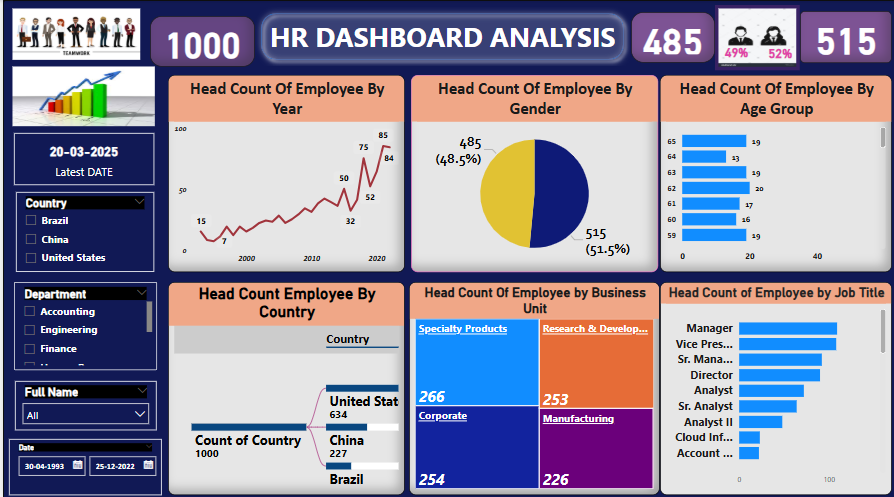

The page's visual inventory and layout, read from the dashboard file:
{"tool":"powerbi","page":{"name":"HR Data Analysis","canvas":[1286,720],"ordinal":0},"visuals":[{"type":"lineChart","title":"Head Count Of Employee By Year ","fields":{"Category":["Employee Data.Hire Date.Variation.Date Hierarchy.Year"],"Y":["CountNonNull(Employee Data.Employee ID)"]},"box":[237.6,108,341.3,283.7],"z":0},{"type":"pieChart","title":"Head Count Of Employee By Gender","fields":{"Category":["Employee Data.Gender"],"Y":["CountNonNull(Employee Data.Employee ID)"]},"box":[587.5,108,355.7,283.7],"z":1000},{"type":"clusteredBarChart","title":"Head Count Of Employee By Age Group","fields":{"Category":["Employee Data.Age"],"Y":["CountNonNull(Employee Data.Employee ID)"]},"box":[946.1,108,334.1,283.7],"z":2000},{"type":"card","fields":{"Values":["Employee Data.total employee count"]},"box":[211.7,23,151.2,73.4],"z":3000},{"type":"decompositionTreeVisual","title":"Head Count Employee By Country","fields":{"Analyze":["CountNonNull(Employee Data.Country)"],"ExplainBy":["Employee Data.Country"]},"box":[237.6,406.1,341.3,306.7],"z":4000},{"type":"treemap","title":"Head Count Of Employee by Business Unit","fields":{"Group":["Employee Data.Business Unit"],"Values":["CountNonNull(Employee Data.Employee ID)"]},"box":[584.6,406.1,361.4,306.7],"z":5000},{"type":"barChart","title":"Head Count of Employee by Job Title","fields":{"Category":["Employee Data.Job Title"],"Y":["CountNonNull(Employee Data.Employee ID)"]},"box":[946.1,406.1,334.1,306.7],"z":6000},{"type":"slicer","fields":{"Values":["Employee Data.Country"]},"box":[18.7,276.5,198.7,115.2],"z":7000},{"type":"slicer","fields":{"Values":["Employee Data.Department"]},"box":[15.8,406.1,205.9,126.7],"z":8000},{"type":"slicer","fields":{"Values":["Employee Data.Full Name"]},"box":[17.3,548.6,204.5,70.6],"z":9000},{"type":"image","box":[8.6,90.7,214.6,96.5],"z":10000},{"type":"image","box":[8.6,7.2,194.4,83.5],"z":11000},{"type":"card","fields":{"Values":["Employee Data.total_count_female"]},"box":[1147.7,15.8,132.5,74.9],"z":12000},{"type":"card","fields":{"Values":["Employee Data.total_count_male"]},"box":[904.3,17.3,121,73.4],"z":13000},{"type":"image","box":[1025.3,7.2,122.4,93.6],"z":14000},{"type":"slicer","fields":{"Values":["Employee Data.Hire Date"]},"box":[8.6,632.2,220.3,80.6],"z":15000},{"type":"shape","box":[362.9,10.1,540,85],"z":16000},{"type":"card","fields":{"Values":["Max(Query 1.DATE)"]},"box":[15.8,191.5,201.6,74.9],"z":17000},{"type":"card","fields":{"Values":["Employee Data.total male %"]},"box":[1087.2,54.7,63.4,46.1],"z":18000},{"type":"card","fields":{"Values":["Employee Data.total male %"]},"box":[1025.3,56.2,61.9,40.3],"z":19000}]}

Visuals, with their boxes in screenshot pixels (x1, y1, x2, y2), scaled from the page's 1286x720 canvas onto the 894x497 screenshot:
"Head Count Of Employee By Year " lineChart: {"x1": 165, "y1": 75, "x2": 402, "y2": 270}
"Head Count Of Employee By Gender" pieChart: {"x1": 408, "y1": 75, "x2": 656, "y2": 270}
"Head Count Of Employee By Age Group" clusteredBarChart: {"x1": 658, "y1": 75, "x2": 890, "y2": 270}
card - Employee Data.total employee count: {"x1": 147, "y1": 16, "x2": 252, "y2": 67}
"Head Count Employee By Country" decompositionTreeVisual: {"x1": 165, "y1": 280, "x2": 402, "y2": 492}
"Head Count Of Employee by Business Unit" treemap: {"x1": 406, "y1": 280, "x2": 658, "y2": 492}
"Head Count of Employee by Job Title" barChart: {"x1": 658, "y1": 280, "x2": 890, "y2": 492}
slicer - Employee Data.Country: {"x1": 13, "y1": 191, "x2": 151, "y2": 270}
slicer - Employee Data.Department: {"x1": 11, "y1": 280, "x2": 154, "y2": 368}
slicer - Employee Data.Full Name: {"x1": 12, "y1": 379, "x2": 154, "y2": 427}
image: {"x1": 6, "y1": 63, "x2": 155, "y2": 129}
image: {"x1": 6, "y1": 5, "x2": 141, "y2": 63}
card - Employee Data.total_count_female: {"x1": 798, "y1": 11, "x2": 890, "y2": 63}
card - Employee Data.total_count_male: {"x1": 629, "y1": 12, "x2": 713, "y2": 63}
image: {"x1": 713, "y1": 5, "x2": 798, "y2": 70}
slicer - Employee Data.Hire Date: {"x1": 6, "y1": 436, "x2": 159, "y2": 492}
shape: {"x1": 252, "y1": 7, "x2": 628, "y2": 66}
card - Max(Query 1.DATE): {"x1": 11, "y1": 132, "x2": 151, "y2": 184}
card - Employee Data.total male %: {"x1": 756, "y1": 38, "x2": 800, "y2": 70}
card - Employee Data.total male %: {"x1": 713, "y1": 39, "x2": 756, "y2": 67}
